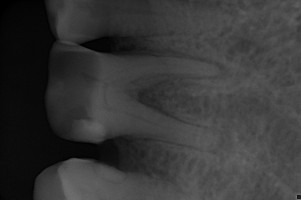Endo-Periodontal Lesion: (138, 78, 191, 122)
